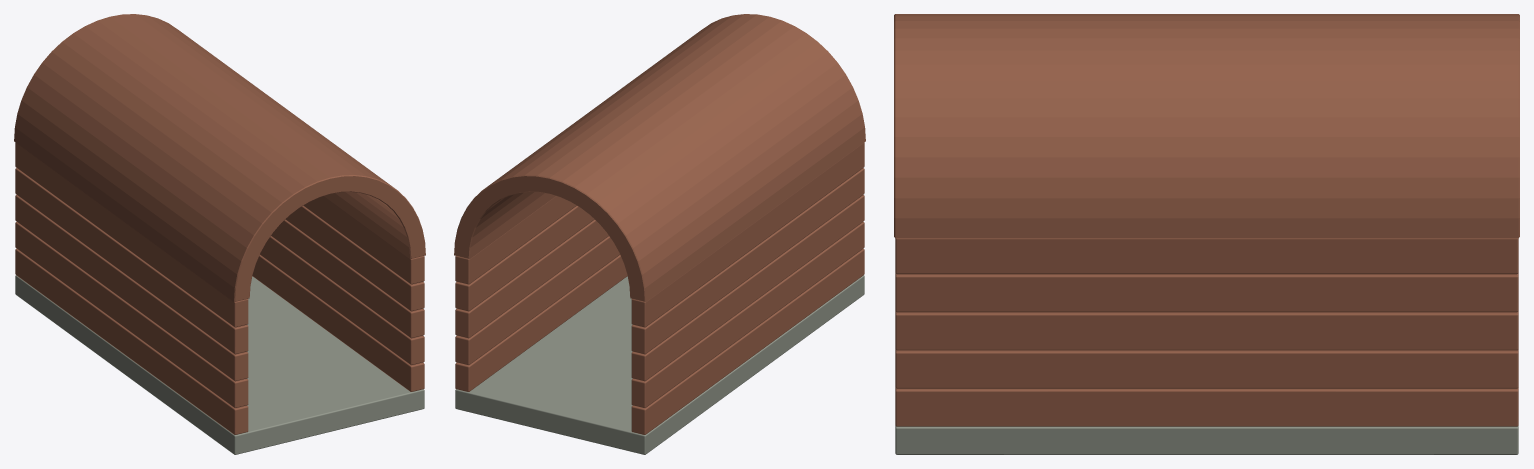
The model's file is undercity-sewers-and-thieves-den-dry-side-passage-4a580059__25018.glb.
The picture shows the model from 3 angles, left to right: view 1: azimuth 30°, elevation 25°; view 2: azimuth 150°, elevation 25°; view 3: azimuth 270°, elevation 25°; orthographic projection. The views are drawn at different scales.
Visible parts, largest first — view 1: dry-side-passage; view 2: dry-side-passage; view 3: dry-side-passage.
Boxes of the visible parts, x1=… form: dry-side-passage: x1=14, y1=14, x2=425, y2=454; dry-side-passage: x1=454, y1=14, x2=865, y2=454; dry-side-passage: x1=894, y1=14, x2=1519, y2=454.
Bounding box in the file's own units: 2.02 × 2.56 × 4.02.
